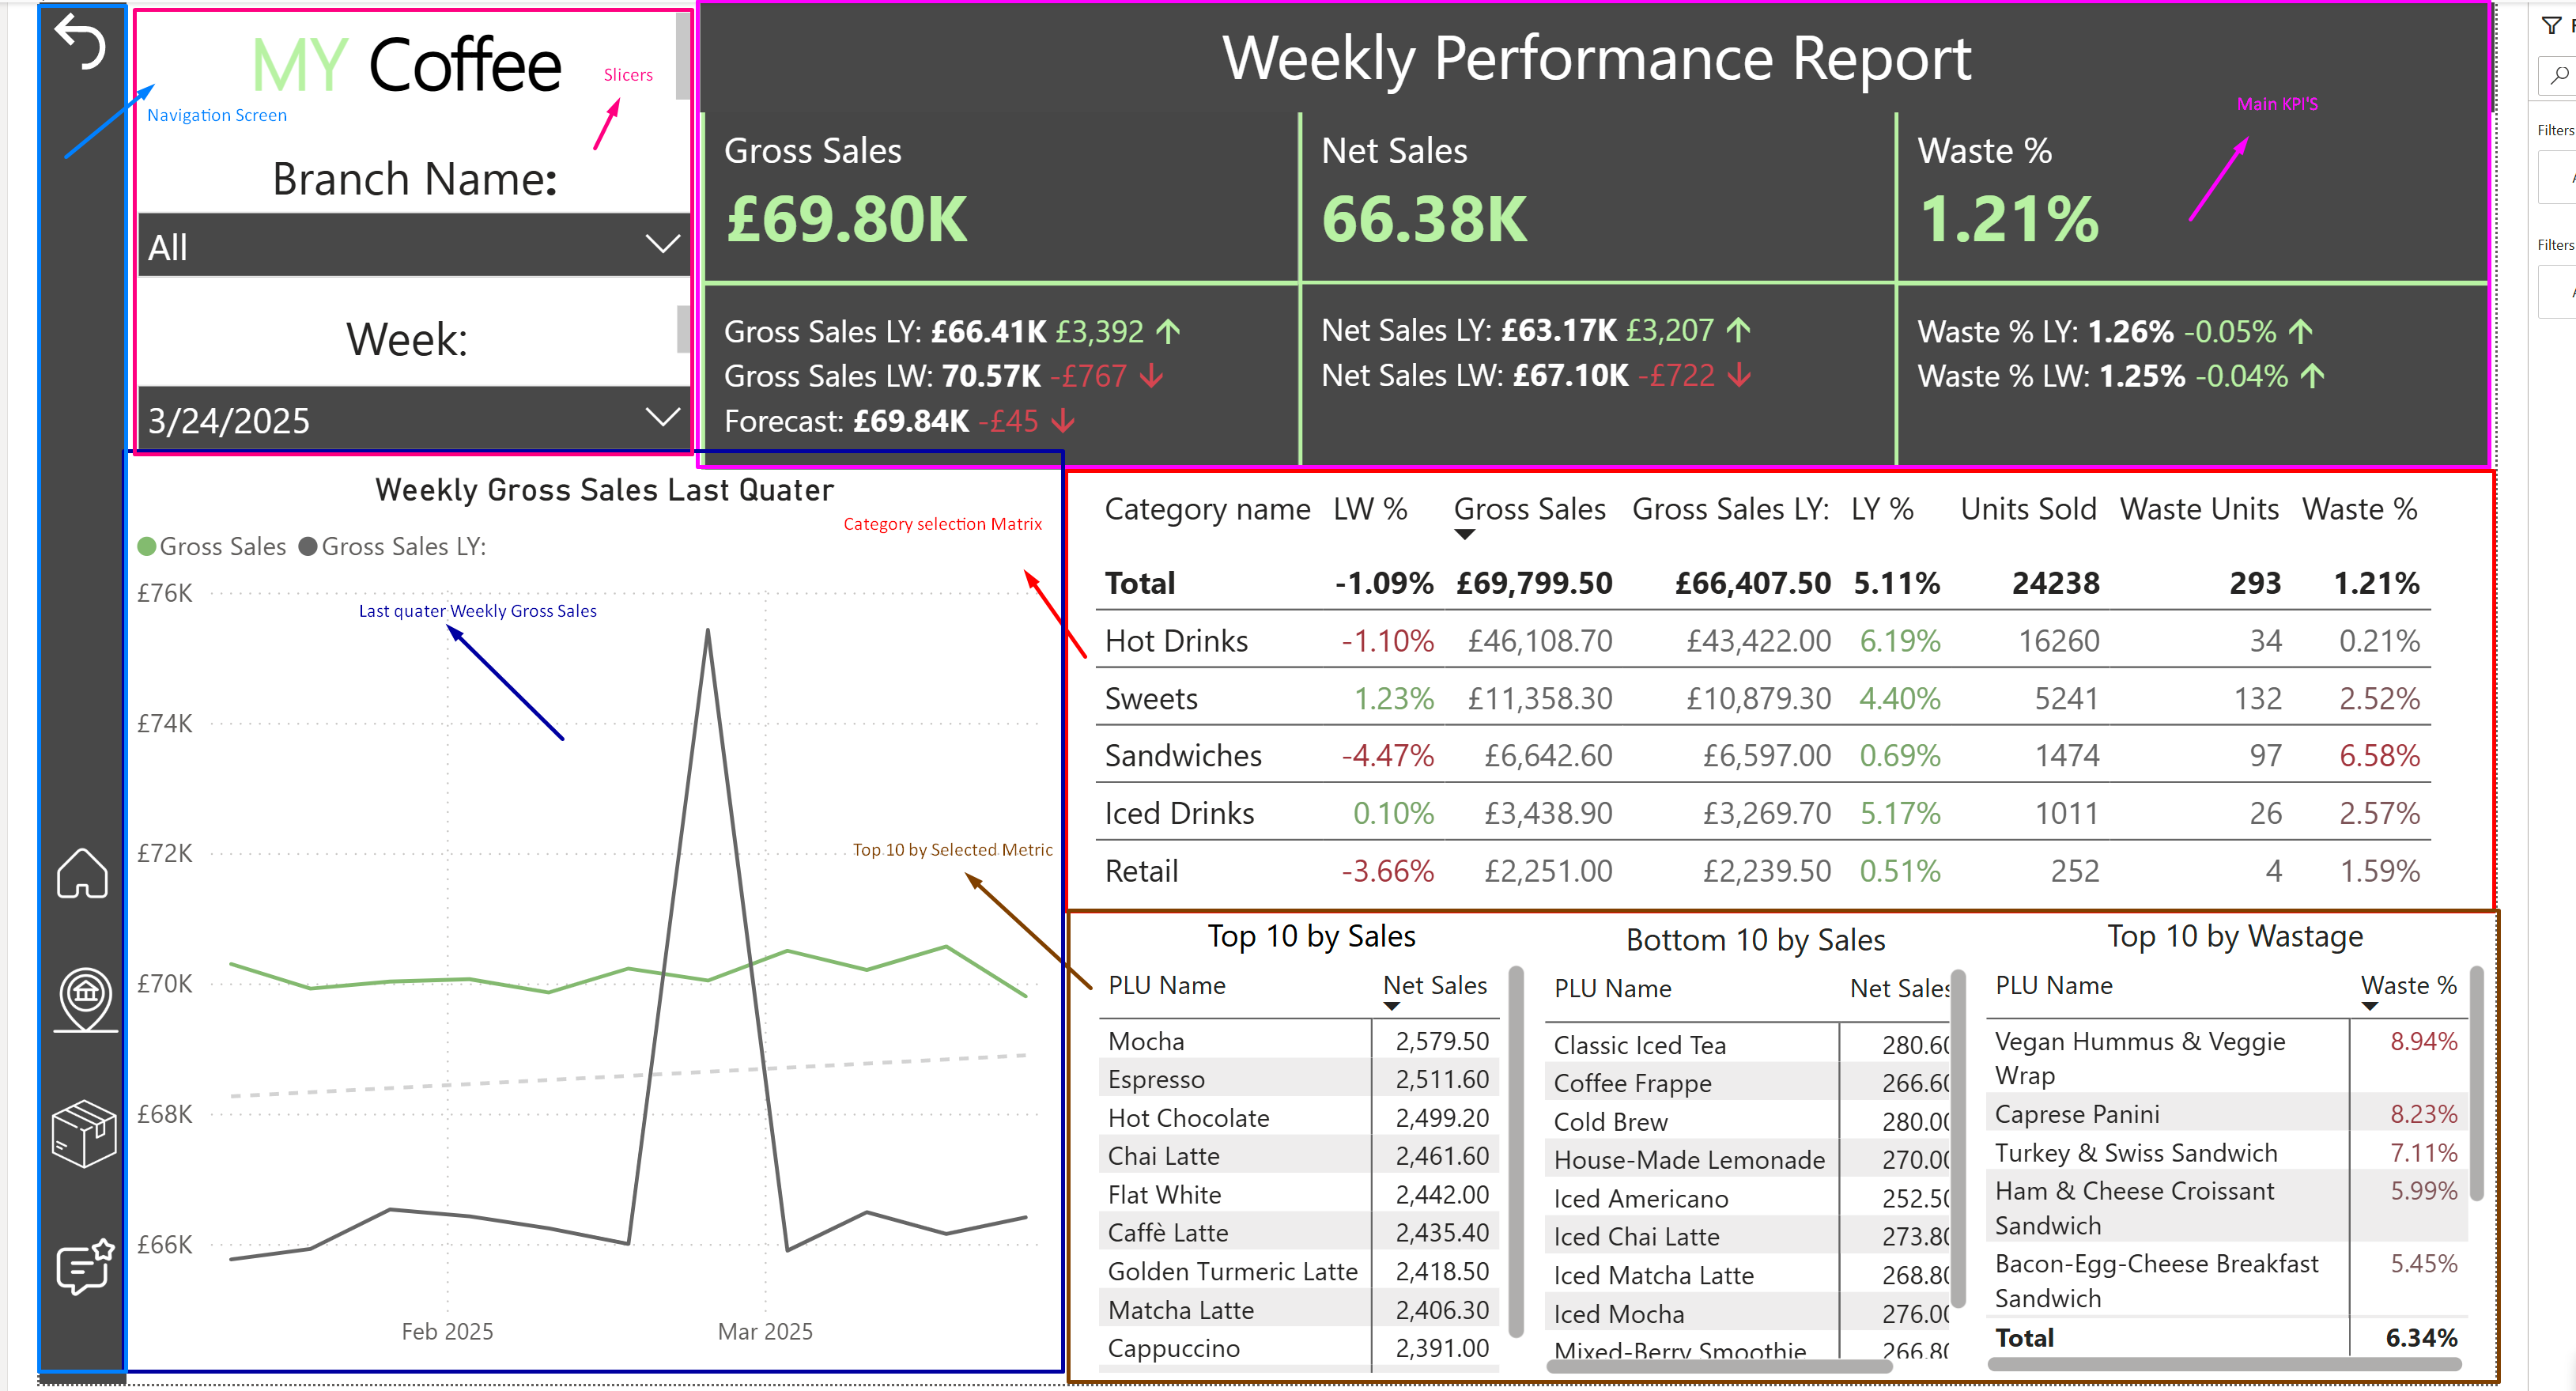

Layout of this report page (visuals, bound fields, positions):
{"tool":"powerbi","page":{"name":"Weekly Report","canvas":[1280,720],"ordinal":0},"visuals":[{"type":"lineChart","title":"Weekly Gross Sales Last Quater","fields":{"Y":["Measure Table.Gross Sales","Measure Table.Gross Sales LY:"],"Category":["Calendar_Lookup_table.Start of Week"]},"box":[44.7,243.7,500.3,467.1],"z":0},{"type":"cardVisual","fields":{"Data":["Measure Table.Gross Sales","Measure Table.Net Sales","Measure Table.Waste %"]},"box":[344.9,46.5,935.1,197.5],"z":1000},{"type":"textbox","box":[45.8,0,299.2,57.5],"z":2000},{"type":"textbox","box":[45.8,68.7,299.4,42.8],"z":3000},{"type":"slicer","fields":{"Values":["Branch_Lookup_Table.Branch name"]},"box":[45.8,103.9,299.4,59.6],"z":4000},{"type":"pivotTable","fields":{"Rows":["Product_Category_Table.Category name"],"Values":["Measure Table.LW Comp","Measure Table.Gross Sales","Measure Table.Gross Sales LY:","Measure Table.LY Comp","Measure Table.Units Sold","Measure Table.Waste Units","Measure Table.Waste %"]},"box":[545.3,242.9,734.7,232.2],"z":5000},{"type":"pivotTable","title":"Top 10 by  Sales","fields":{"Rows":["Product_Lookup_Table.PLU Name"],"Values":["Measure Table.Net Sales"]},"box":[546.8,475,232.2,244.4],"z":6000},{"type":"pivotTable","title":"Top 10 by Wastage","fields":{"Rows":["Product_Lookup_Table.PLU Name"],"Values":["Measure Table.Waste %"]},"box":[1009.6,475,270.4,244.4],"z":7000},{"type":"pivotTable","title":"Bottom 10 by  Sales","fields":{"Rows":["Product_Lookup_Table.PLU Name"],"Values":["Measure Table.Net Sales"]},"box":[779.3,476.4,230.3,244],"z":8000},{"type":"shape","box":[0,0,45.6,720.6],"z":9000},{"type":"textbox","box":[45.8,152.7,299.4,38.2],"z":10000},{"type":"slicer","fields":{"Values":["Calendar_Lookup_table.Start of Week"]},"box":[45.8,194,299.4,48.9],"z":11000},{"type":"textbox","box":[344.3,0,935.1,57.1],"z":12000},{"type":"actionButton","box":[1.1,0,45.2,40],"z":13000},{"type":"image","box":[2.1,497.4,44.2,44.2],"z":14000},{"type":"image","box":[2.1,637.3,44.2,43.1],"z":15000},{"type":"image","box":[0,432.2,44.2,43.1],"z":16000},{"type":"image","box":[0,563.7,46.3,51.5],"z":17000}]}

Visuals, with their boxes on the page's 1280x720 design canvas (x1, y1, x2, y2). These are canvas units, not pixel positions in the 2576x1391 screenshot, which may show the page scaled, cropped or inside an application window:
"Weekly Gross Sales Last Quater" lineChart: <bbox>45, 244, 545, 711</bbox>
cardVisual - Measure Table.Gross Sales x Measure Table.Net Sales: <bbox>345, 46, 1280, 244</bbox>
textbox: <bbox>46, 0, 345, 58</bbox>
textbox: <bbox>46, 69, 345, 112</bbox>
slicer - Branch_Lookup_Table.Branch name: <bbox>46, 104, 345, 164</bbox>
pivotTable - Product_Category_Table.Category name x Measure Table.LW Comp: <bbox>545, 243, 1280, 475</bbox>
"Top 10 by  Sales" pivotTable: <bbox>547, 475, 779, 719</bbox>
"Top 10 by Wastage" pivotTable: <bbox>1010, 475, 1280, 719</bbox>
"Bottom 10 by  Sales" pivotTable: <bbox>779, 476, 1010, 720</bbox>
shape: <bbox>0, 0, 46, 721</bbox>
textbox: <bbox>46, 153, 345, 191</bbox>
slicer - Calendar_Lookup_table.Start of Week: <bbox>46, 194, 345, 243</bbox>
textbox: <bbox>344, 0, 1279, 57</bbox>
actionButton: <bbox>1, 0, 46, 40</bbox>
image: <bbox>2, 497, 46, 542</bbox>
image: <bbox>2, 637, 46, 680</bbox>
image: <bbox>0, 432, 44, 475</bbox>
image: <bbox>0, 564, 46, 615</bbox>
